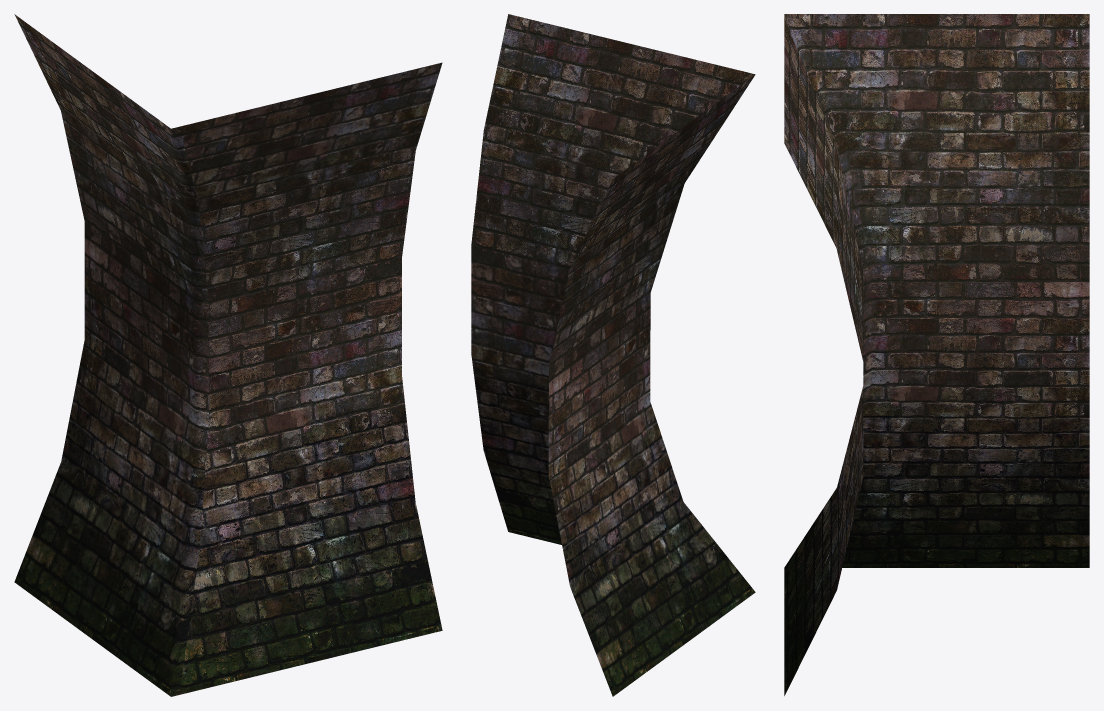
Rendered from wall_corner_convex.DAE.
The picture shows the model from 3 angles, left to right: view 1: azimuth 30°, elevation 25°; view 2: azimuth 150°, elevation 25°; view 3: azimuth 270°, elevation 25°; orthographic projection. The views are drawn at different scales.
Visible parts, largest first — view 1: wall01_corner_convex; view 2: wall01_corner_convex; view 3: wall01_corner_convex.
Boxes of the visible parts, left/top/right/bottom form: wall01_corner_convex: left=14, top=14, right=442, bottom=696; wall01_corner_convex: left=471, top=14, right=755, bottom=696; wall01_corner_convex: left=784, top=14, right=1089, bottom=695.
Bounding box in the file's own units: 2 × 2 × 4.
